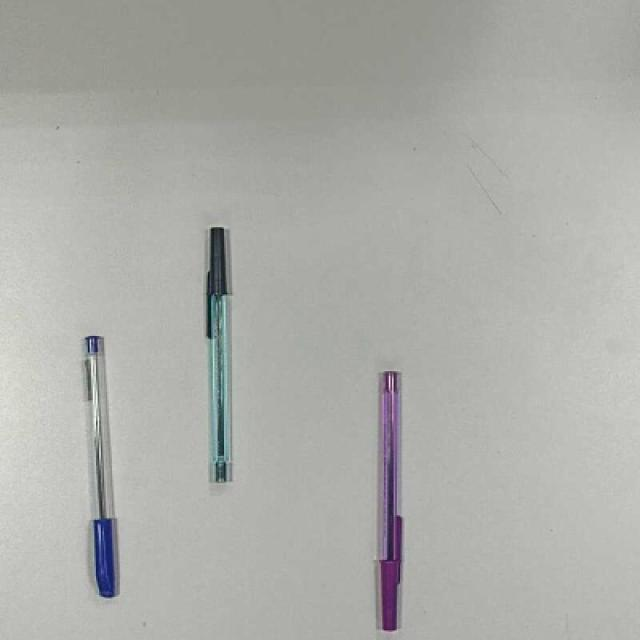caneta: (85, 336, 118, 599), (206, 227, 230, 482), (380, 371, 401, 632)
